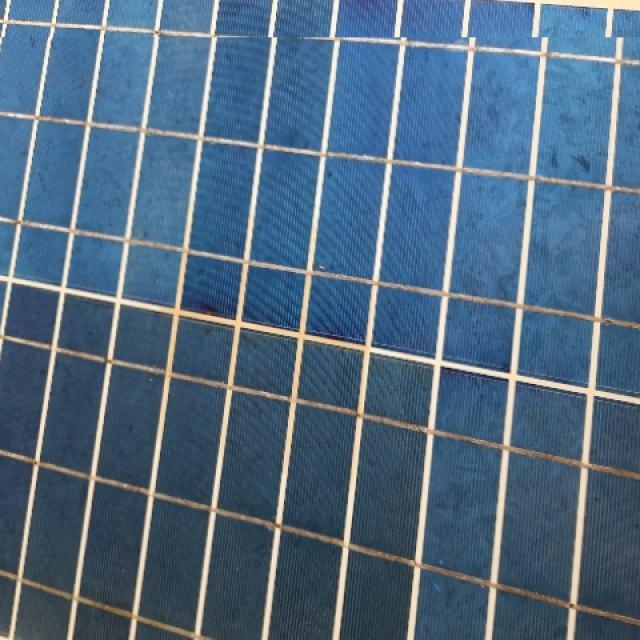Clean: (0, 37, 640, 640)
